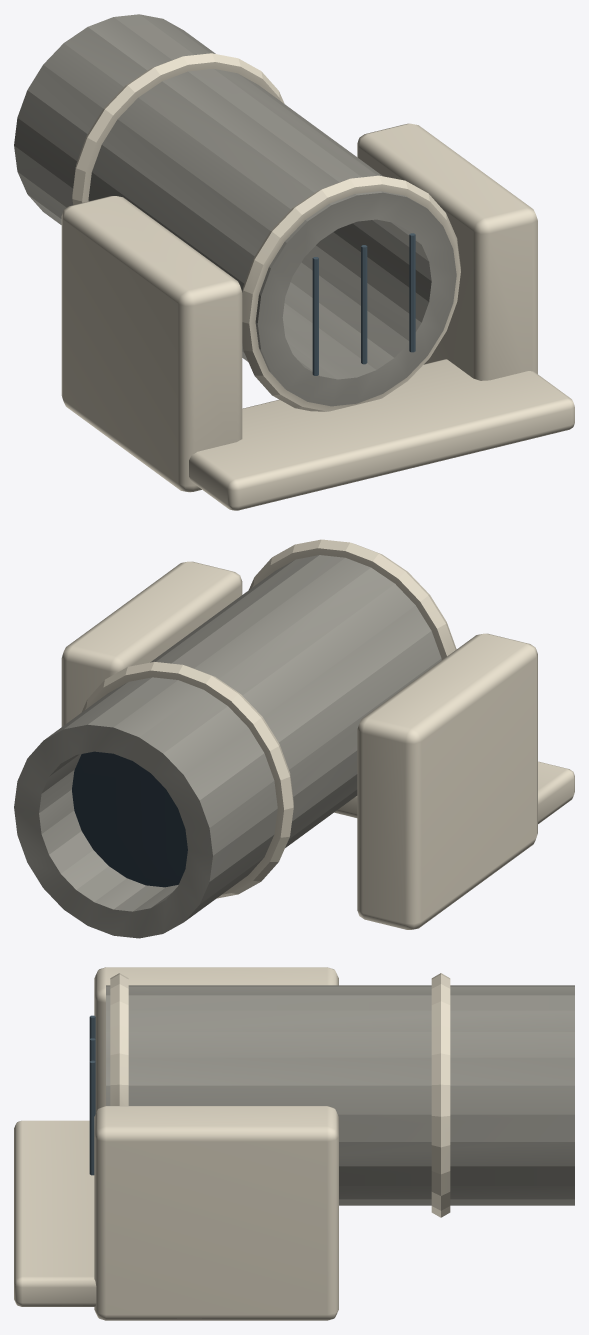
Rendered from river-outfall.glb.
The picture shows the model from 3 angles, top to bottom: view 1: azimuth 30°, elevation 25°; view 2: azimuth 150°, elevation 25°; view 3: azimuth 270°, elevation 25°; orthographic projection. The views are drawn at different scales.
Parts seen in each view (by area): view 1: pipe socket collar, concrete outfall, coarse debris screen; view 2: concrete outfall, pipe socket collar, recessed pipe shadow; view 3: pipe socket collar, concrete outfall, coarse debris screen.
Boxes of the visible parts, box(x1,y1,x2,y2) form: pipe socket collar: box(61, 53, 574, 510); concrete outfall: box(14, 14, 456, 406); coarse debris screen: box(312, 233, 415, 375); concrete outfall: box(14, 555, 441, 938); pipe socket collar: box(61, 539, 574, 929); recessed pipe shadow: box(72, 751, 187, 887); pipe socket collar: box(14, 967, 450, 1320); concrete outfall: box(106, 985, 574, 1205); coarse debris screen: box(89, 1015, 95, 1175).
Bounding box in the file's own units: 1.19 × 0.847 × 1.67.
